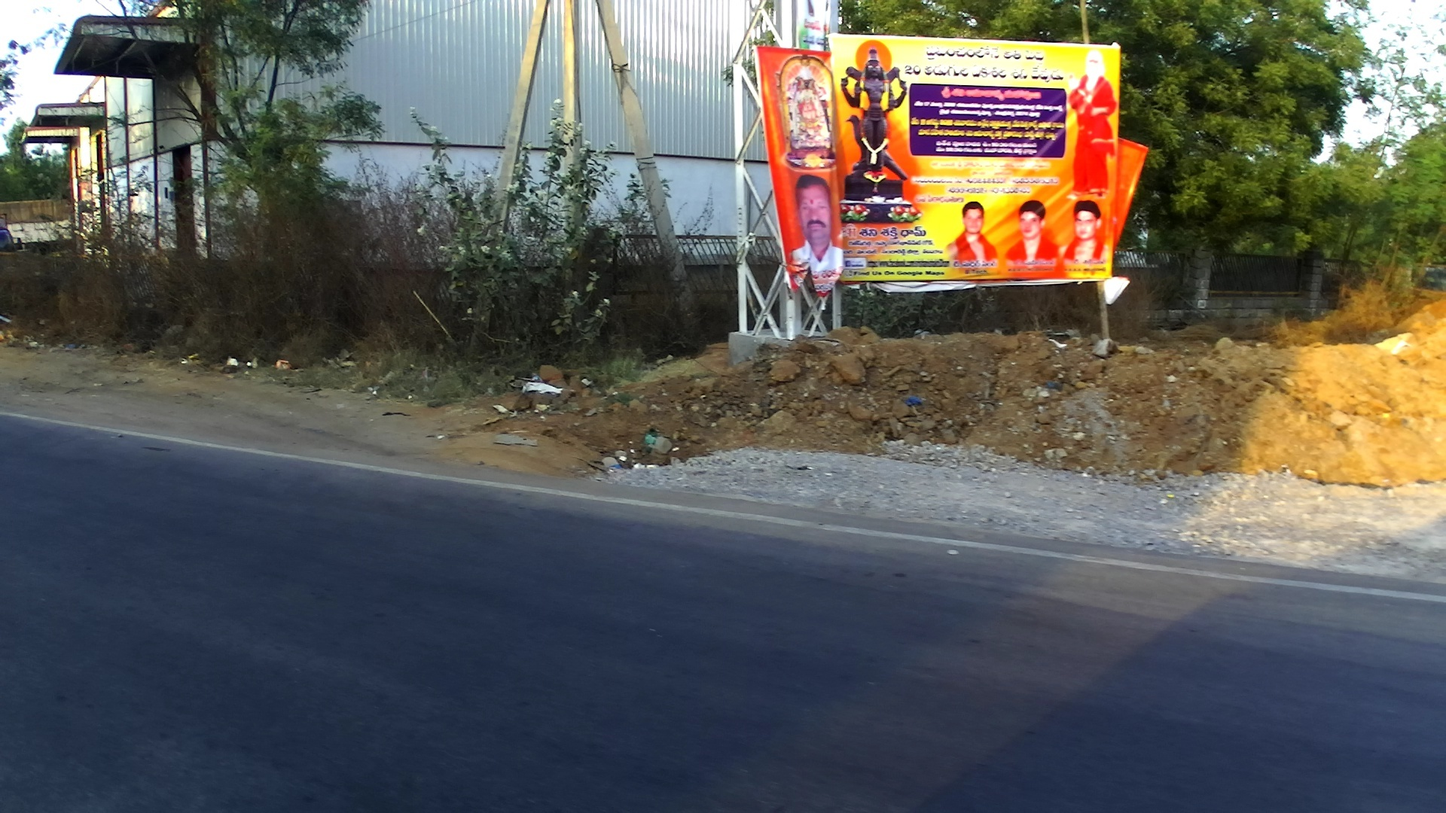vehicle fallback: (0, 212, 25, 258)
